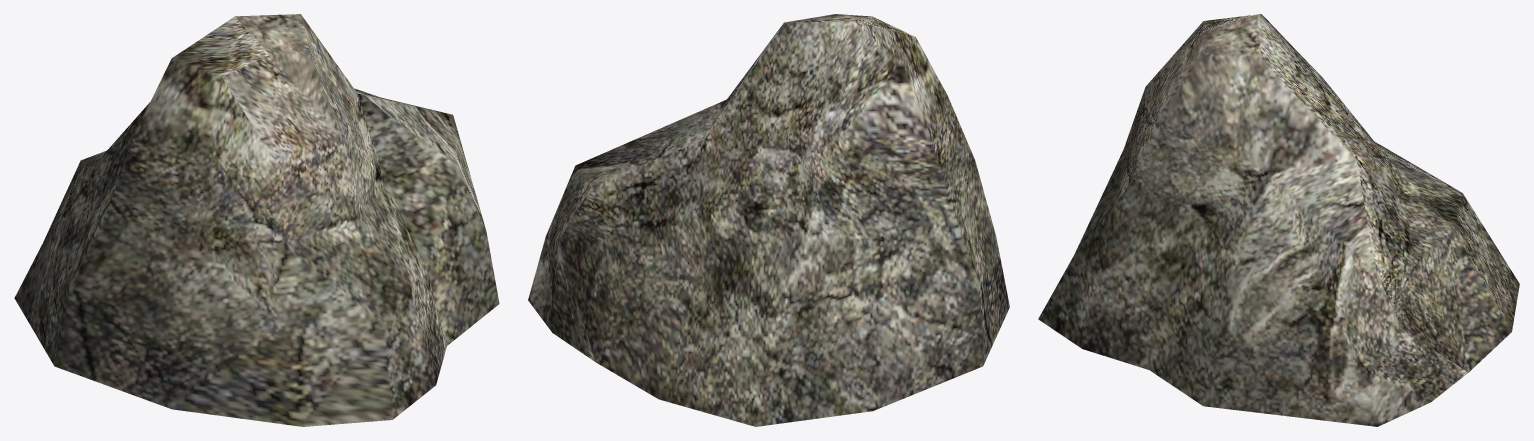
Rendered from general_obj_stone06.fbx.
The picture shows the model from 3 angles, left to right: view 1: azimuth 30°, elevation 25°; view 2: azimuth 150°, elevation 25°; view 3: azimuth 270°, elevation 25°; orthographic projection. The views are drawn at different scales.
Parts seen in each view (by area): view 1: Sphere01; view 2: Sphere01; view 3: Sphere01.
Boxes of the visible parts, x1,y1,x2,y2 form: Sphere01: [14, 14, 499, 426]; Sphere01: [528, 14, 1009, 426]; Sphere01: [1038, 14, 1519, 426].
Size of the model in its own units: 3.85 by 2.67 by 4.03.
